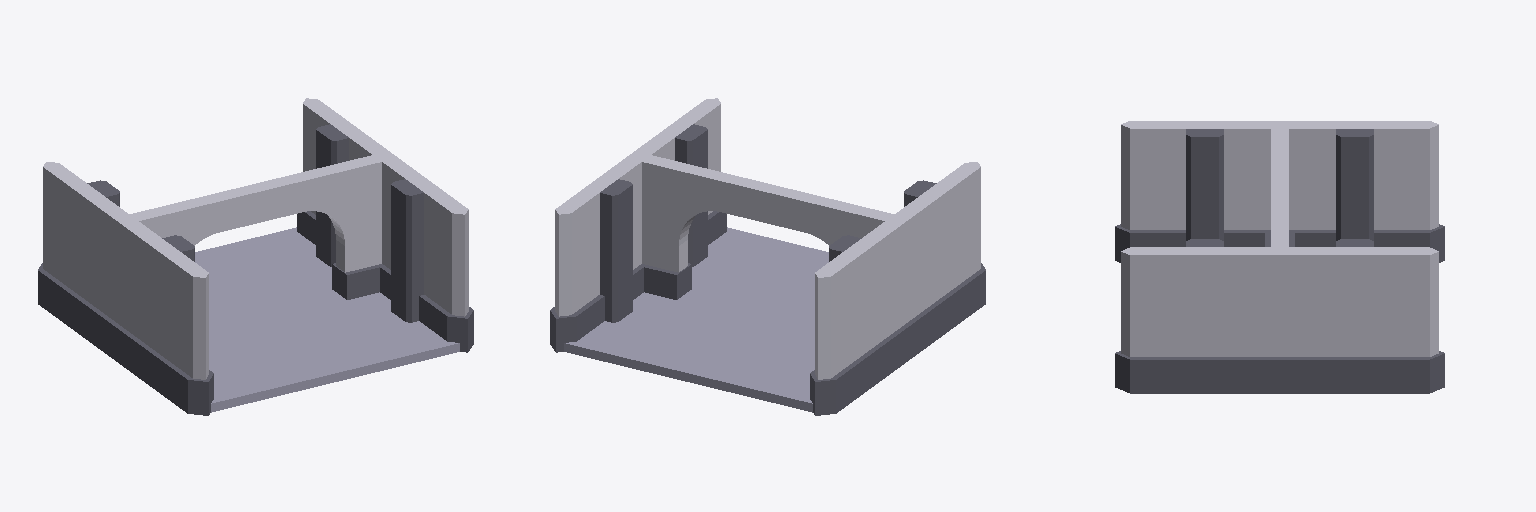
Rendered from hallway_04.obj.
The picture shows the model from 3 angles: view 1: azimuth 30°, elevation 25°; view 2: azimuth 150°, elevation 25°; view 3: azimuth 270°, elevation 25°; orthographic projection.
Parts seen in each view (by area): view 1: floor_01_11, wall_02_13, arch_02_19, wall_02_15, wall_02_12, wall_02_14; view 2: floor_01_11, wall_02_12, arch_02_19, wall_02_14, wall_02_13, wall_02_15; view 3: wall_02_14, wall_02_15, wall_02_12, wall_02_13, arch_02_19.
Part boxes in pixels (left/top/right/bottom): floor_01_11: left=195, top=227, right=459, bottom=412; wall_02_13: left=113, top=217, right=213, bottom=415; arch_02_19: left=114, top=153, right=393, bottom=322; wall_02_15: left=379, top=154, right=473, bottom=352; wall_02_12: left=38, top=162, right=133, bottom=358; wall_02_14: left=297, top=98, right=391, bottom=266; floor_01_11: left=564, top=227, right=828, bottom=412; wall_02_12: left=810, top=216, right=910, bottom=415; arch_02_19: left=639, top=154, right=897, bottom=299; wall_02_14: left=550, top=153, right=645, bottom=352; wall_02_13: left=890, top=162, right=985, bottom=358; wall_02_15: left=632, top=98, right=726, bottom=266; wall_02_14: left=1271, top=239, right=1444, bottom=393; wall_02_15: left=1115, top=239, right=1280, bottom=393; wall_02_12: left=1273, top=121, right=1444, bottom=262; wall_02_13: left=1115, top=121, right=1282, bottom=262; arch_02_19: left=1265, top=125, right=1294, bottom=359.
Size of the model in its own units: 2.21 by 1 by 2.21.